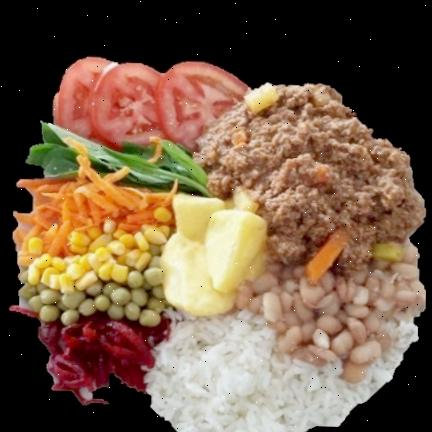beans: (238, 244, 426, 384)
beet: (39, 312, 170, 403)
carrot: (14, 143, 182, 267)
corn: (28, 226, 168, 292)
meat: (194, 84, 425, 273)
potato: (161, 195, 266, 315)
rice: (147, 311, 417, 432)
tomato: (55, 57, 247, 150)
